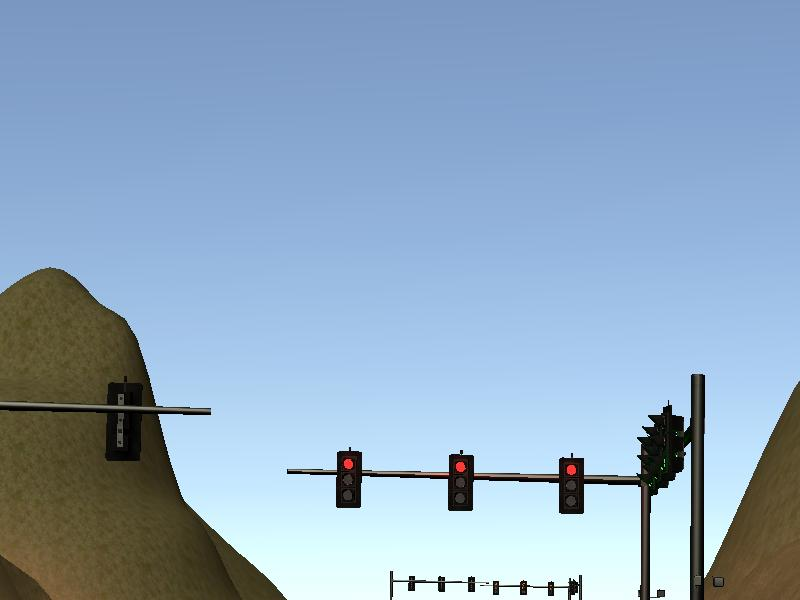red: (335, 448, 361, 508), (447, 451, 473, 511), (557, 455, 583, 515)
